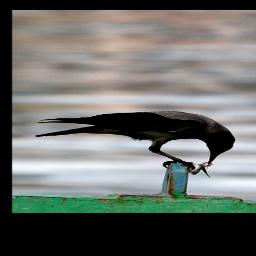Crow: (33, 110, 236, 170)
